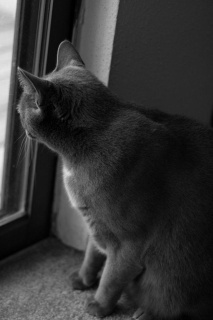Cat: (12, 37, 213, 319)
